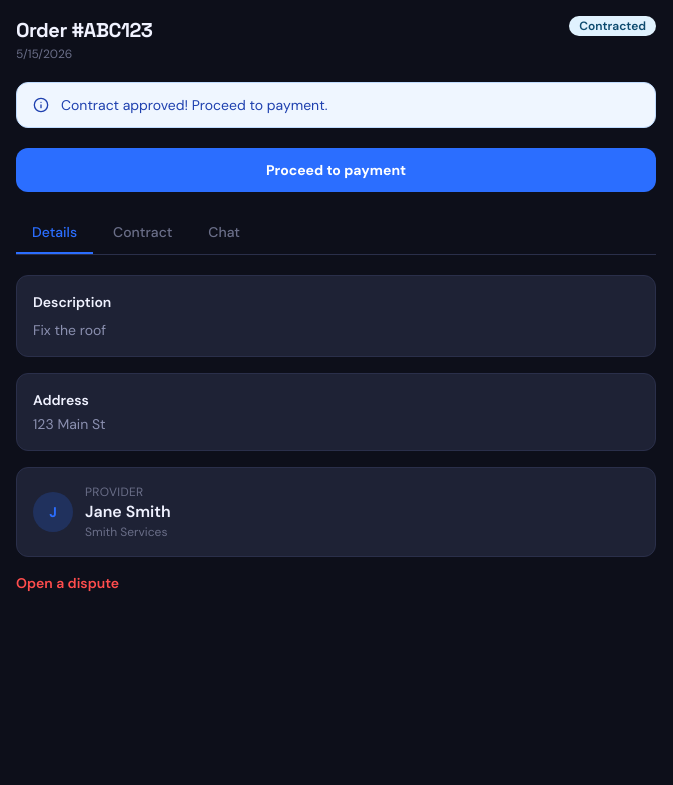
Test: OrderDetail › AC3 — payment button click without approval shows toast
Click the button with test id "payment-button" at (336, 170), box 16,148 -> 656,192
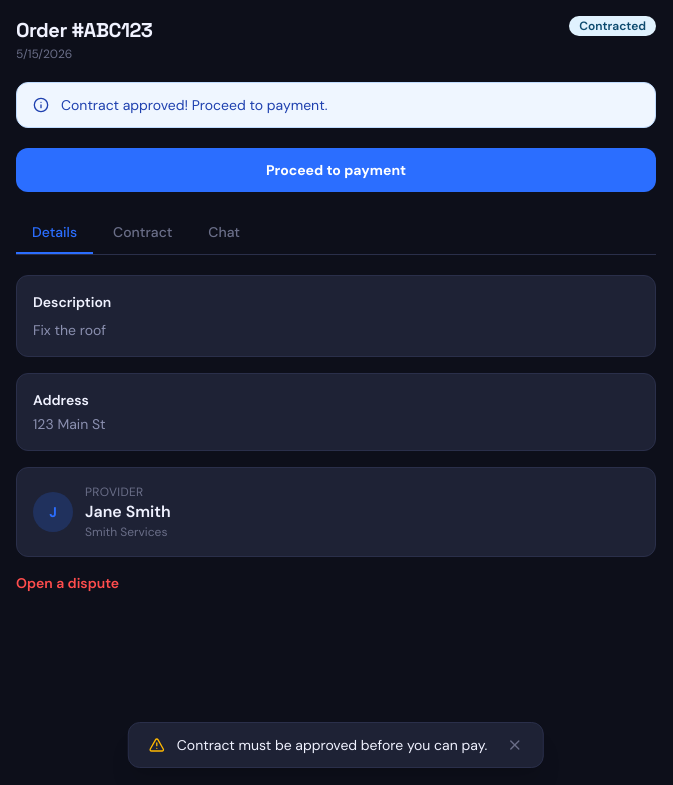
Result: the message "Contract must be approved before you can pay." is shown at 128,722 -> 544,768
